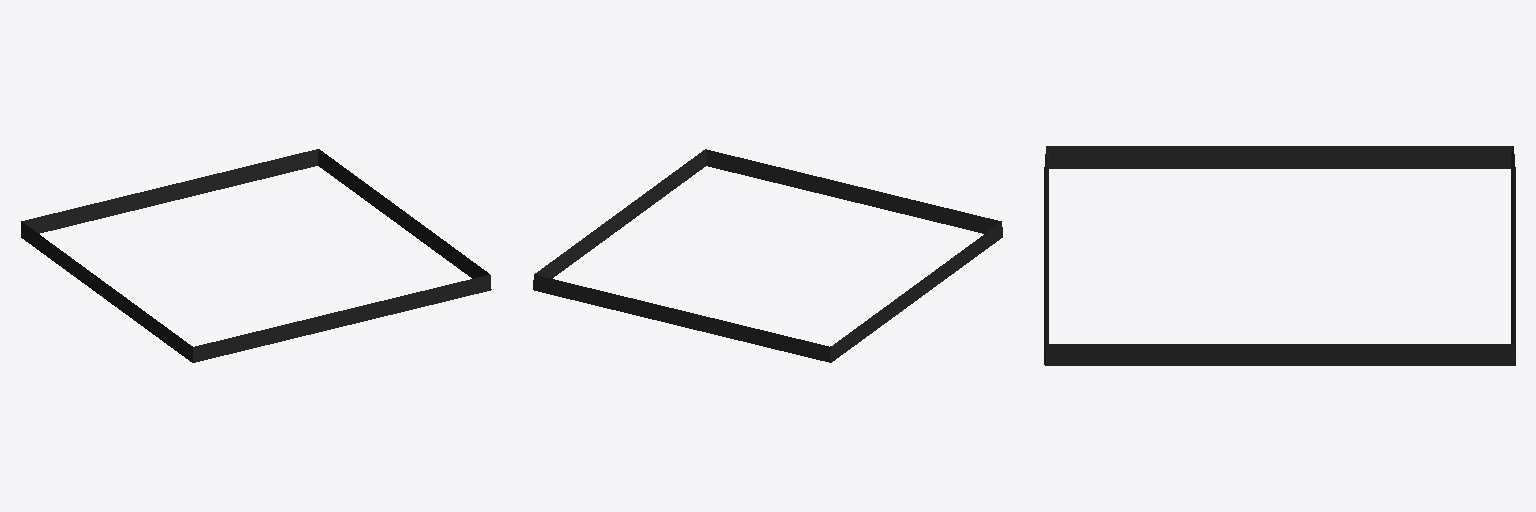
URDF robot description (empty):
<?xml version="1.0"?> 
<robot name="empty">

    <material name="black">
        <color rgba="0.2 0.2 0.2 0.95"/>
    </material>

    <link name="base_link">
        <visual>
            <origin xyz="0.0 0.0 0.0" rpy="0.0 0.0 0.0"/>
            <geometry>
                <mesh filename="meshes/empty.obj" scale="0.02 0.02 0.01" />
            </geometry>
          <material name="black"/>
        </visual>

        <collision concave="yes" name="collision_0">
           <origin xyz="0.0 0.0 0.0" rpy="0.0 0.0 0.0"/>
            <geometry>
                <mesh filename="meshes/empty.obj" scale="0.02 0.02 0.01" />
            </geometry>
        </collision>

        <inertial> 
            <mass value="0"/>
            <inertia ixx="0" ixy="0" ixz="0" iyy="0" iyz="0" izz="0"/>
        </inertial> 

    </link>
</robot>

--- Render facts (derived) ---
The picture shows the robot from 3 angles, left to right: view 1: azimuth 30°, elevation 25°; view 2: azimuth 150°, elevation 25°; view 3: azimuth 270°, elevation 25°; orthographic projection.
Robot: empty — 1 links, 0 joints (none); root link base_link; default pose: every joint at zero.
Visible links, largest first — view 1: base_link; view 2: base_link; view 3: base_link.
Link boxes in pixels (x1,y1,x2,y2): base_link: (21, 149, 491, 362); base_link: (533, 149, 1002, 362); base_link: (1044, 146, 1515, 365).
Bounding box of the posed robot: 2.01 × 2.01 × 0.1 m (x, y, z).
Meshes: 1 distinct files referenced, 1 mesh visuals loaded (1 OBJ).